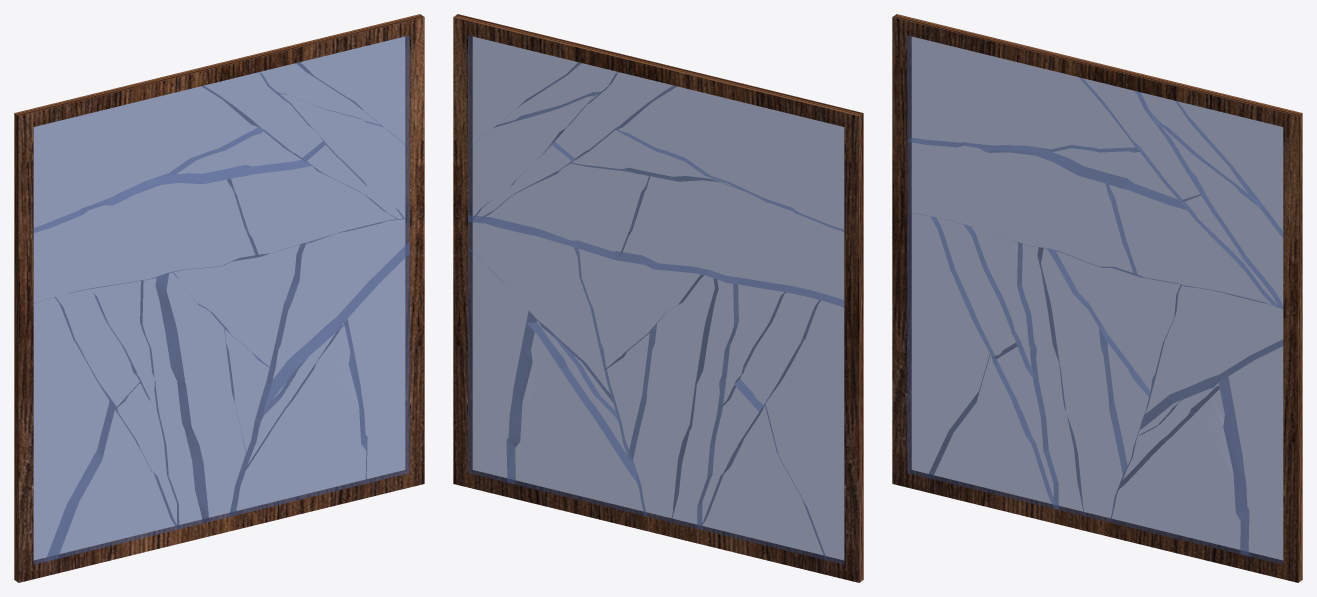
Rendered from Window_Outside_Brokenl.fbx.
3 renders of one model, left to right at view 1: azimuth 30°, elevation 25°; view 2: azimuth 150°, elevation 25°; view 3: azimuth 330°, elevation 25°, orthographic.
Visible parts, largest first — view 1: shard14; view 2: shard14; view 3: shard14.
Part boxes in pixels (x1,y1,x2,y2): shard14: (14,14,424,582); shard14: (453,14,863,582); shard14: (892,14,1302,582).
Size of the model in its own units: 28.64 by 31.46 by 0.5329.
Materials: 2 (1 with a texture image).
